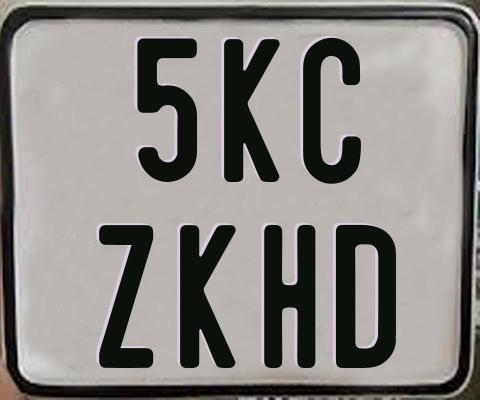5: (136, 38, 200, 183)
C: (300, 36, 360, 183)
D: (335, 223, 396, 367)
H: (261, 223, 314, 367)
K: (180, 223, 240, 369), (223, 37, 280, 180)
Z: (97, 225, 152, 369)
